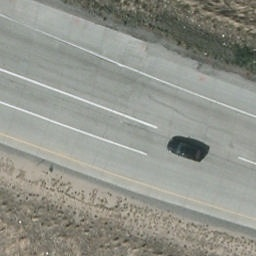car: (163, 138, 208, 163)
